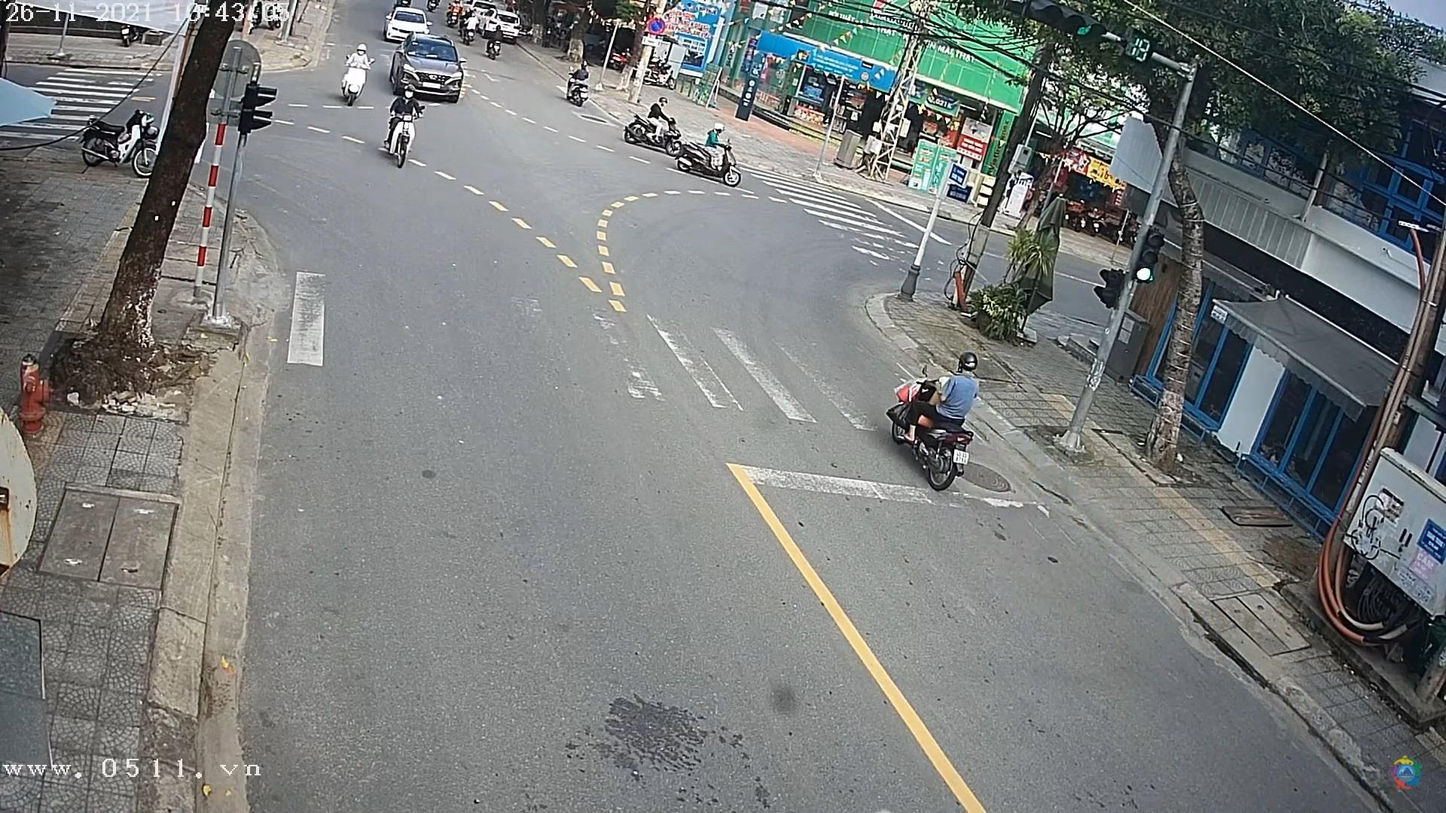car: (395, 39, 469, 98), (383, 10, 426, 42)
motorbike: (886, 369, 974, 492), (675, 134, 747, 187), (385, 105, 418, 167), (340, 53, 364, 109), (563, 69, 591, 110)
